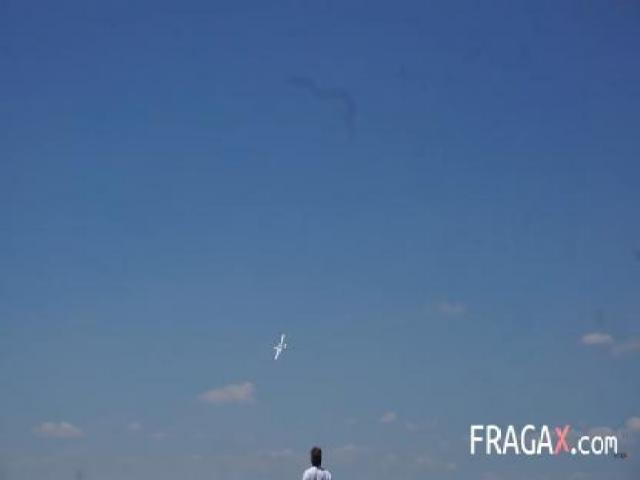uav: (264, 327, 294, 366)
